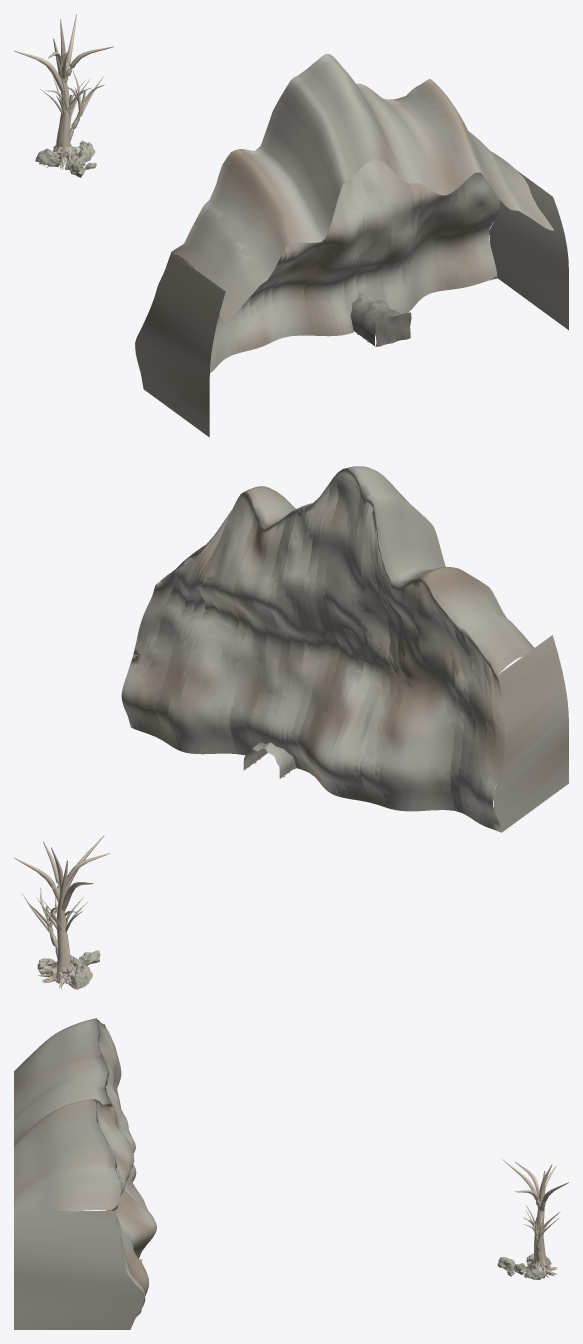
The model's file is landmarks.glb.
3 renders of one model, top to bottom at view 1: azimuth 30°, elevation 25°; view 2: azimuth 150°, elevation 25°; view 3: azimuth 270°, elevation 25°, orthographic. The views are drawn at different scales.
Parts seen in each view (by area): view 1: southern-cliff-rock-near, southern-cliff-rock-far, ancient-fig-wood-near, ancient-fig-wood-far, moss-gates-rock-near; view 2: southern-cliff-rock-near, southern-cliff-rock-far, ancient-fig-wood-near, ancient-fig-wood-far; view 3: southern-cliff-rock-near, southern-cliff-rock-far, ancient-fig-wood-near, ancient-fig-wood-far.
Boxes of the visible parts, <box> form: southern-cliff-rock-near: <box>135,54,568,437</box>; southern-cliff-rock-far: <box>135,68,554,367</box>; ancient-fig-wood-near: <box>14,14,113,169</box>; ancient-fig-wood-far: <box>14,15,113,167</box>; moss-gates-rock-near: <box>35,142,96,176</box>; southern-cliff-rock-near: <box>121,466,568,832</box>; southern-cliff-rock-far: <box>122,479,534,832</box>; ancient-fig-wood-near: <box>14,835,109,989</box>; ancient-fig-wood-far: <box>16,836,109,988</box>; southern-cliff-rock-near: <box>14,1018,156,1329</box>; southern-cliff-rock-far: <box>14,1022,153,1315</box>; ancient-fig-wood-near: <box>502,1159,568,1277</box>; ancient-fig-wood-far: <box>503,1160,568,1277</box>.
Size of the model in its own units: 82 by 67.24 by 134.
